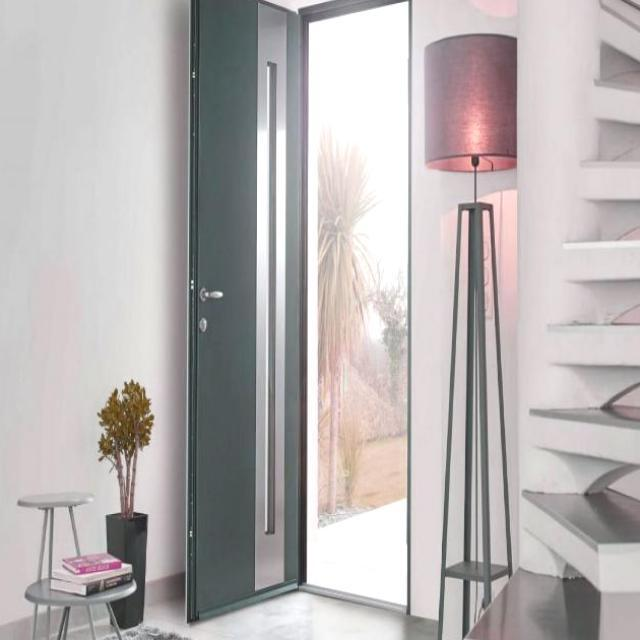Door: (185, 0, 302, 622)
